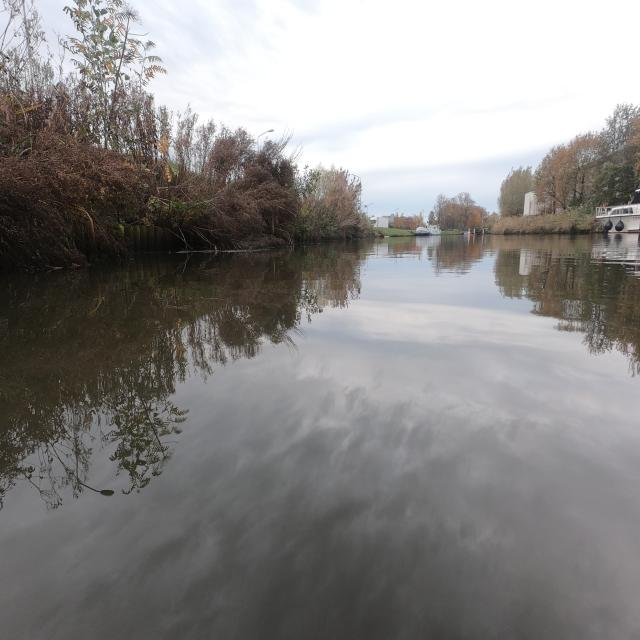boat: (599, 205, 639, 230)
reed: (491, 204, 595, 234)
sky: (132, 2, 639, 214)
water: (1, 235, 638, 639)
